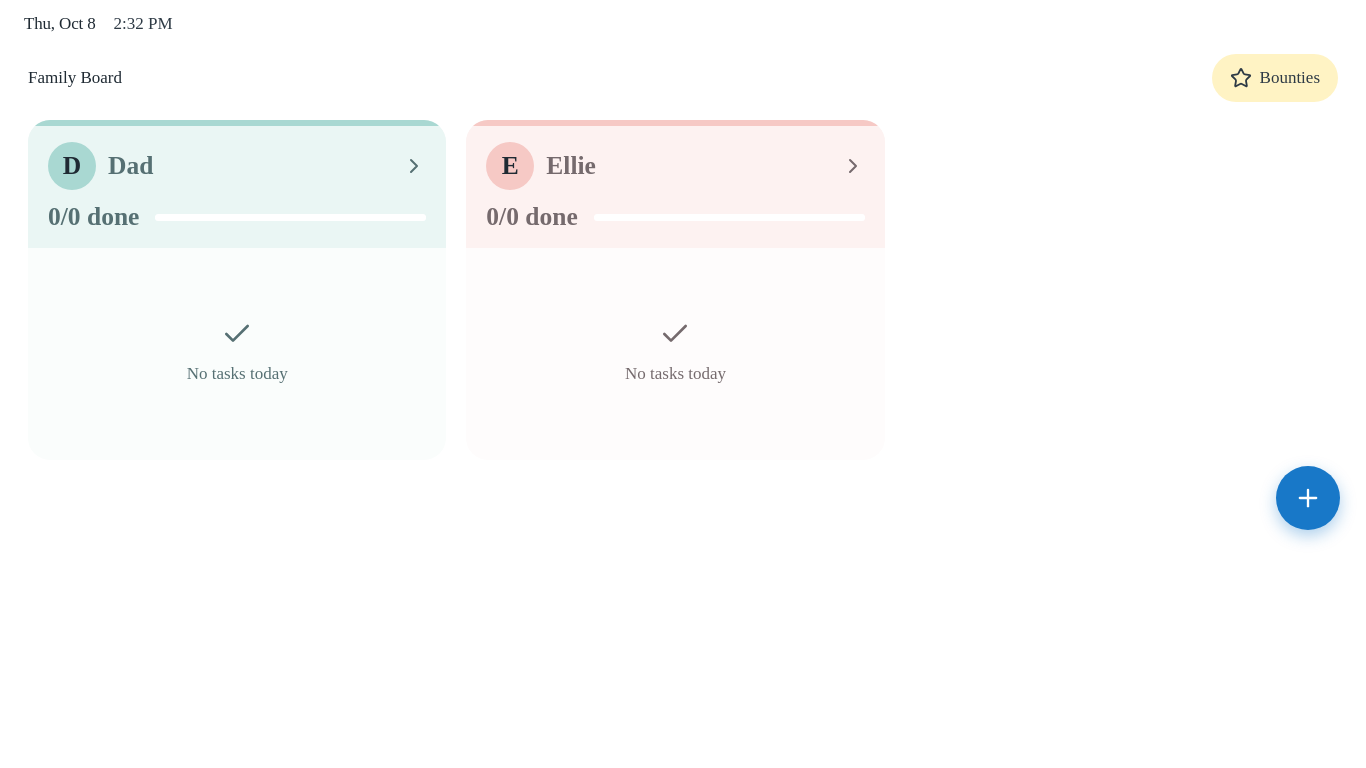
Test: TasksScreen › a competing Bounty claim remains visible as an error after refresh
This screenshot has width=1366, height=768.
Click the button "Bounties": (1275, 78) [1212,54,1338,102]
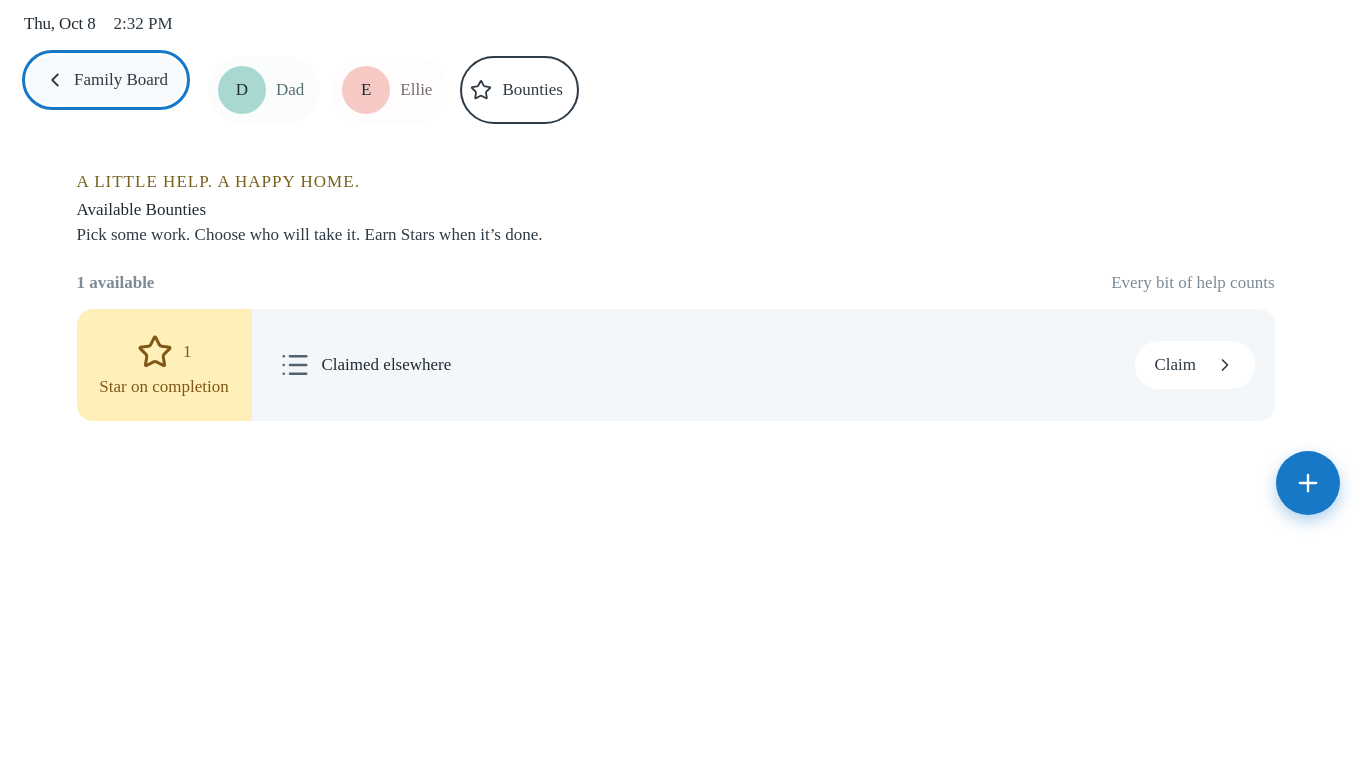
Click the button with aria-label "Claim Claimed elsewhere": (1194, 365) [1134,341,1254,389]
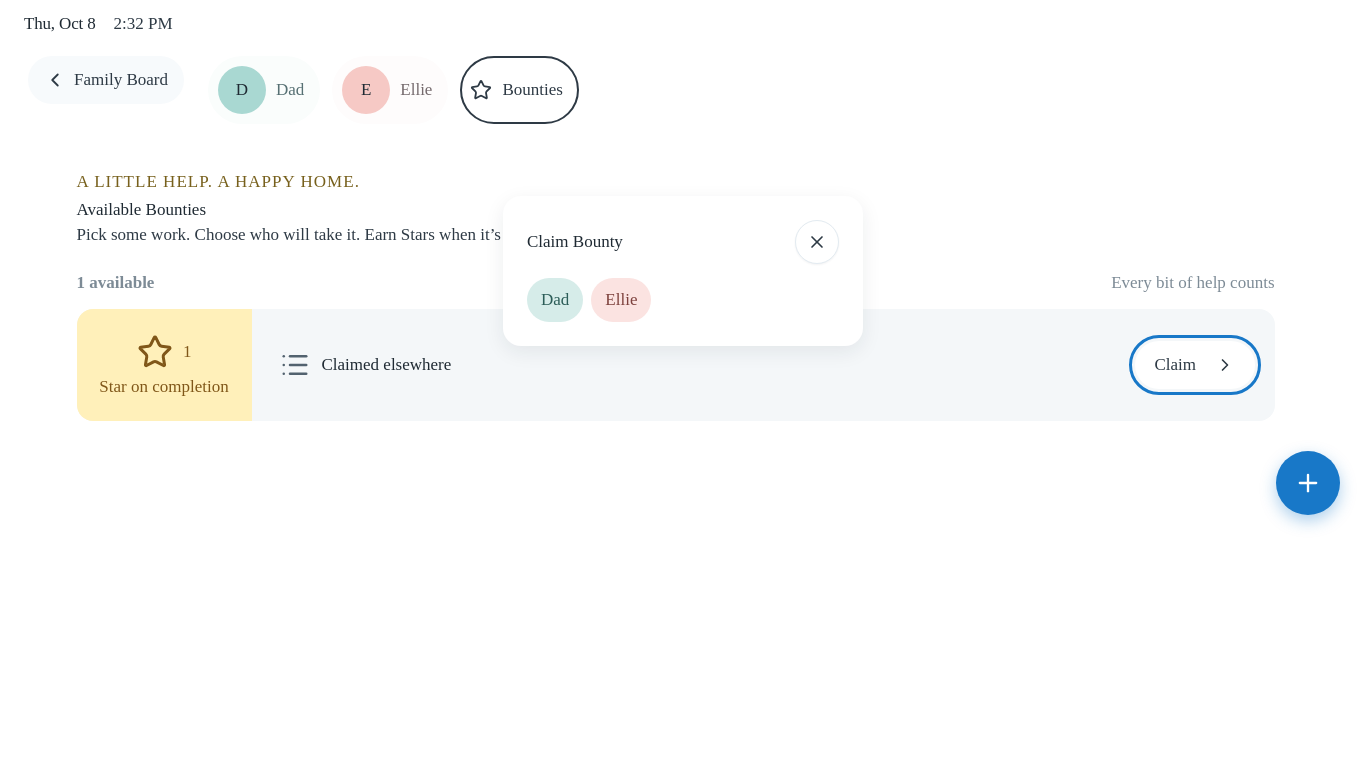
Click the button "Dad": (555, 300) [527,278,583,322]
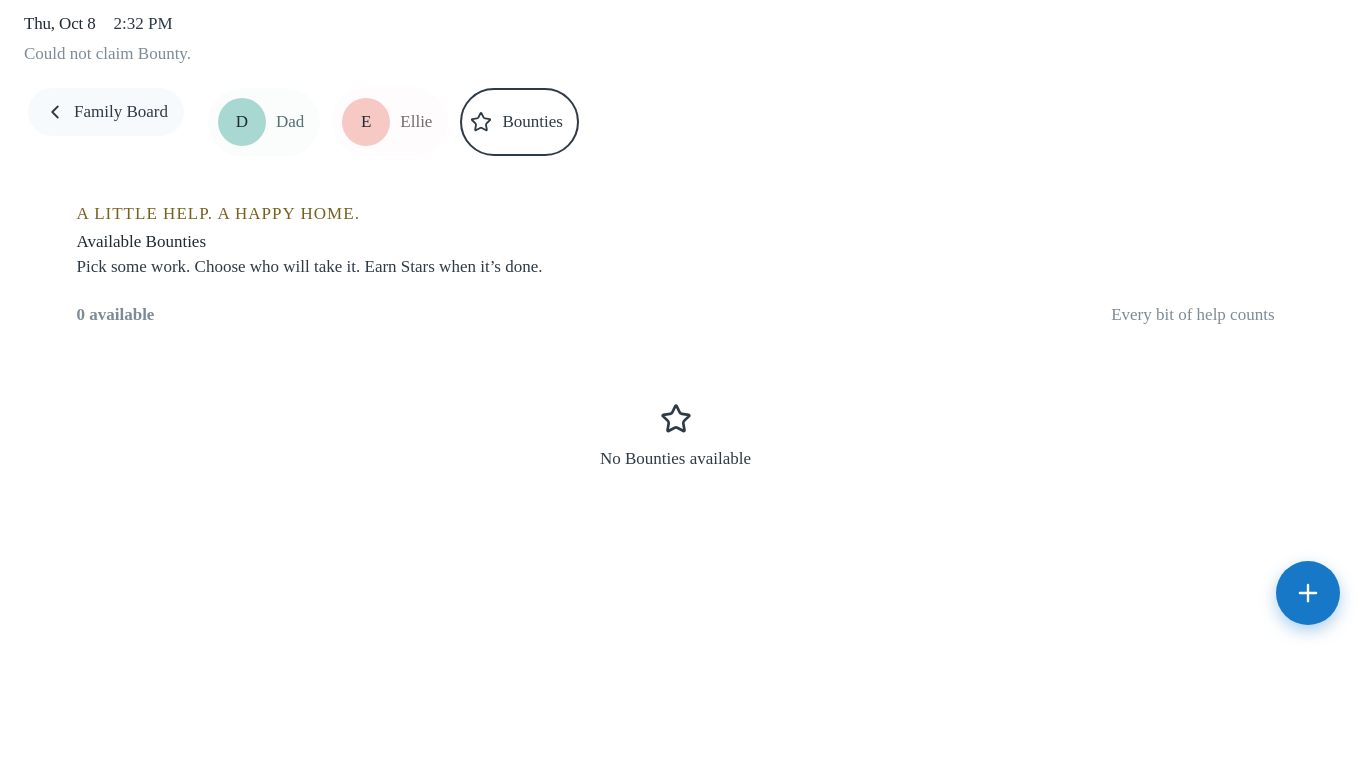
Check: the message reads "Could not claim Bounty.", box [24,44,191,63]
Check: the text "Claimed elsewhere" is gone
